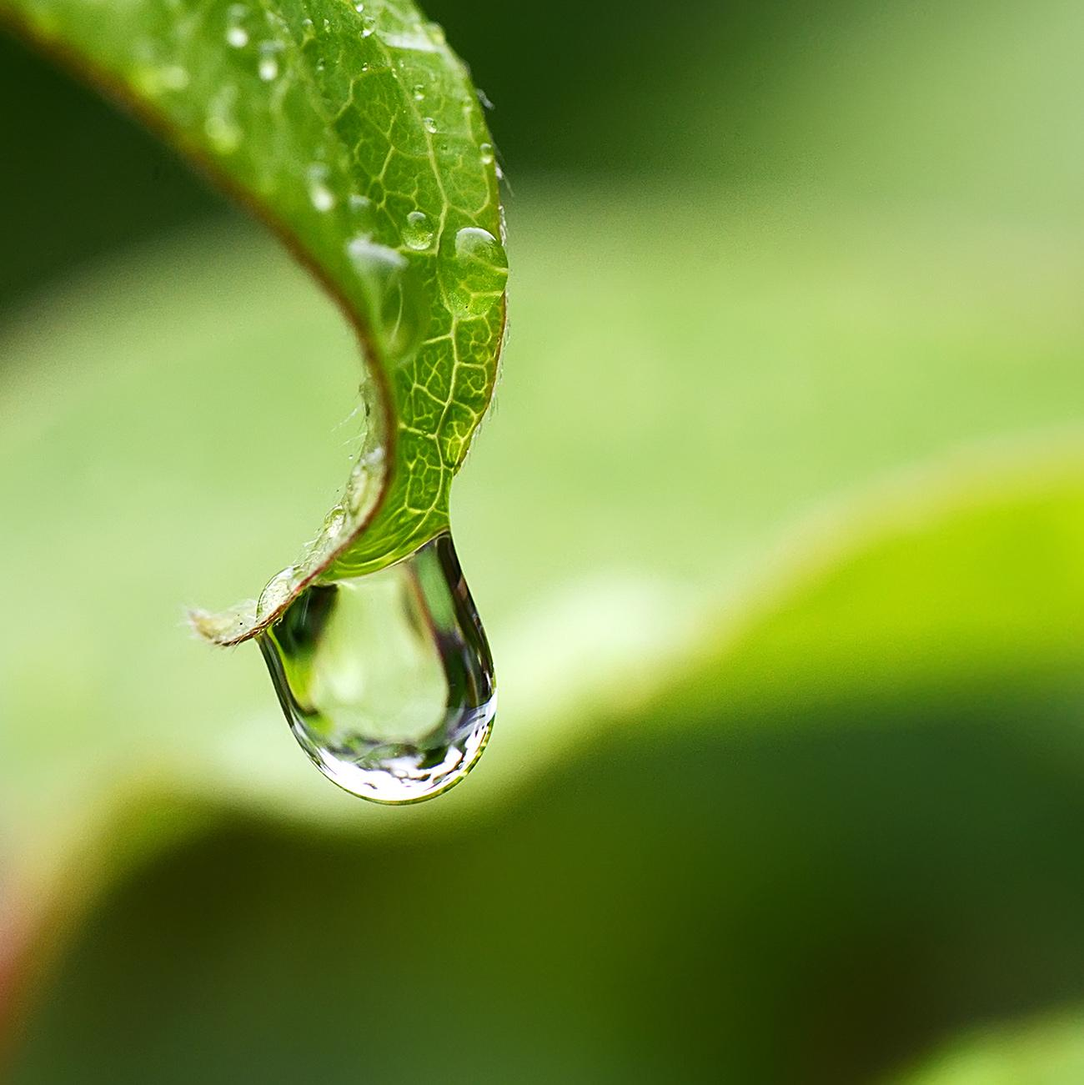water drop: (256, 532, 502, 810)
